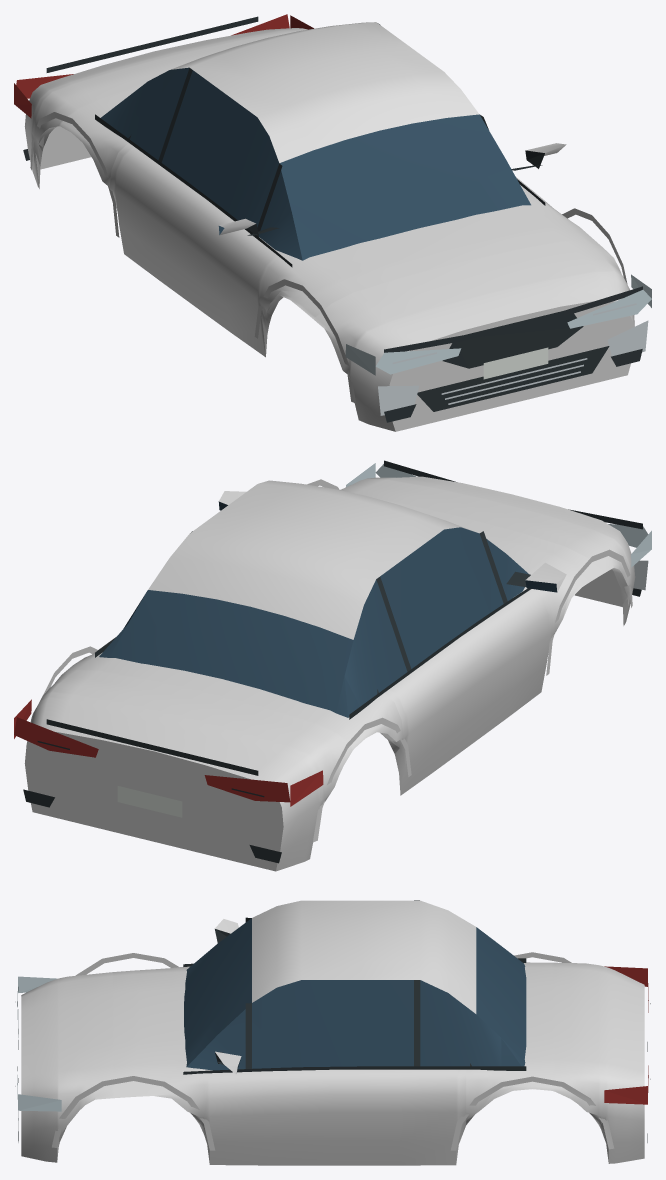
Rendered from veh_city-lod1.glb.
3 views of the same model, one above another, from view 1: azimuth 30°, elevation 25°; view 2: azimuth 150°, elevation 25°; view 3: azimuth 270°, elevation 25° (orthographic). The views are drawn at different scales.
Parts seen in each view (by area): view 1: paint, glass, trim, head, chrome, tail, plate; view 2: paint, glass, trim, tail, head, plate; view 3: paint, glass, trim, tail, head.
Boxes of the visible parts, bbox=[...] form: paint: bbox=[24, 22, 634, 431]; glass: bbox=[100, 67, 530, 260]; trim: bbox=[23, 16, 642, 422]; head: bbox=[345, 274, 651, 375]; chrome: bbox=[378, 303, 648, 415]; tail: bbox=[14, 14, 313, 118]; plate: bbox=[483, 347, 548, 379]; paint: bbox=[24, 476, 635, 871]; glass: bbox=[99, 501, 557, 717]; trim: bbox=[23, 460, 642, 863]; tail: bbox=[14, 699, 323, 806]; head: bbox=[346, 463, 651, 567]; plate: bbox=[117, 786, 182, 817]; paint: bbox=[21, 900, 644, 1165]; glass: bbox=[184, 918, 526, 1071]; trim: bbox=[17, 900, 650, 1142]; tail: bbox=[604, 966, 648, 1104]; head: bbox=[17, 976, 61, 1111].
Size of the model in its own units: 1.54 by 0.855 by 2.84.
